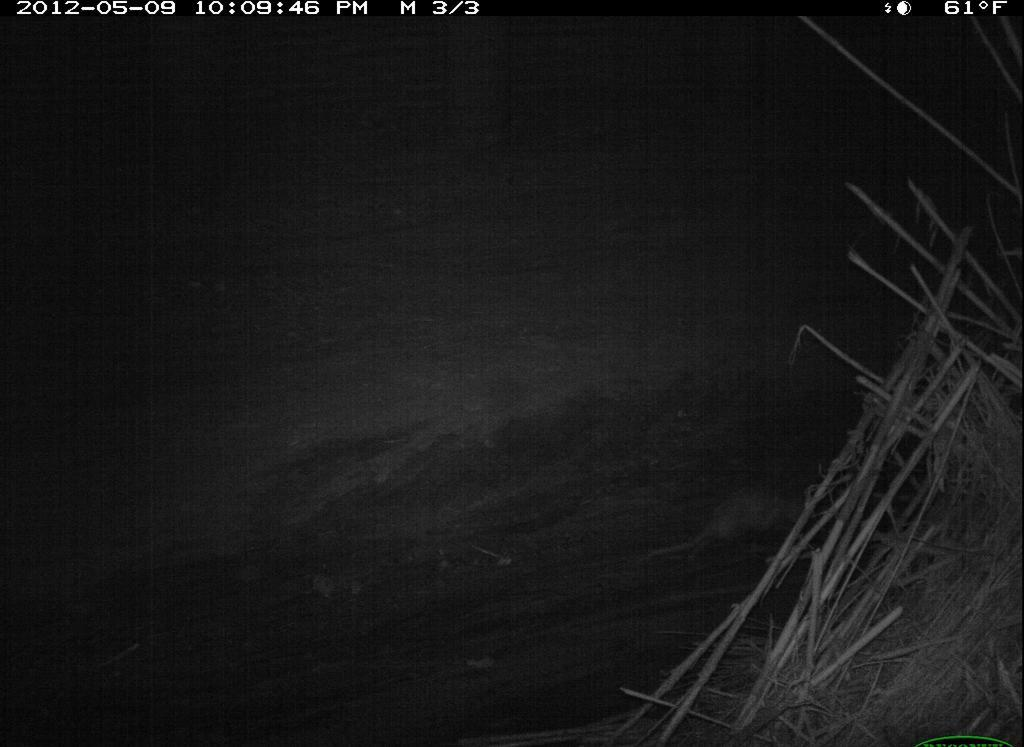opossum: (638, 475, 809, 573)
